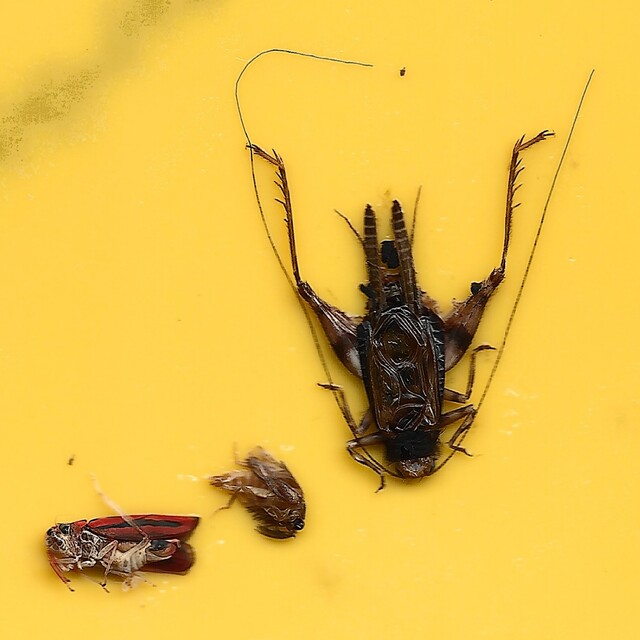Hemiptera: (44, 512, 203, 593), (207, 445, 309, 542)
Orthoptera: (232, 47, 596, 494)
